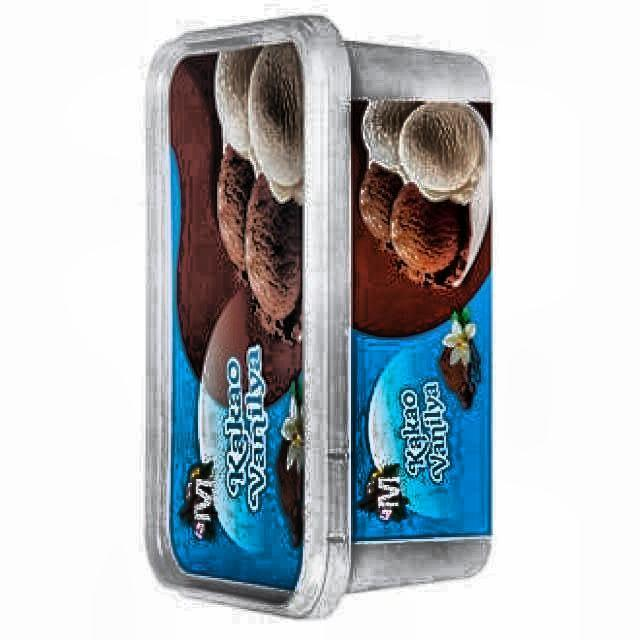plastic: (148, 16, 491, 616)
